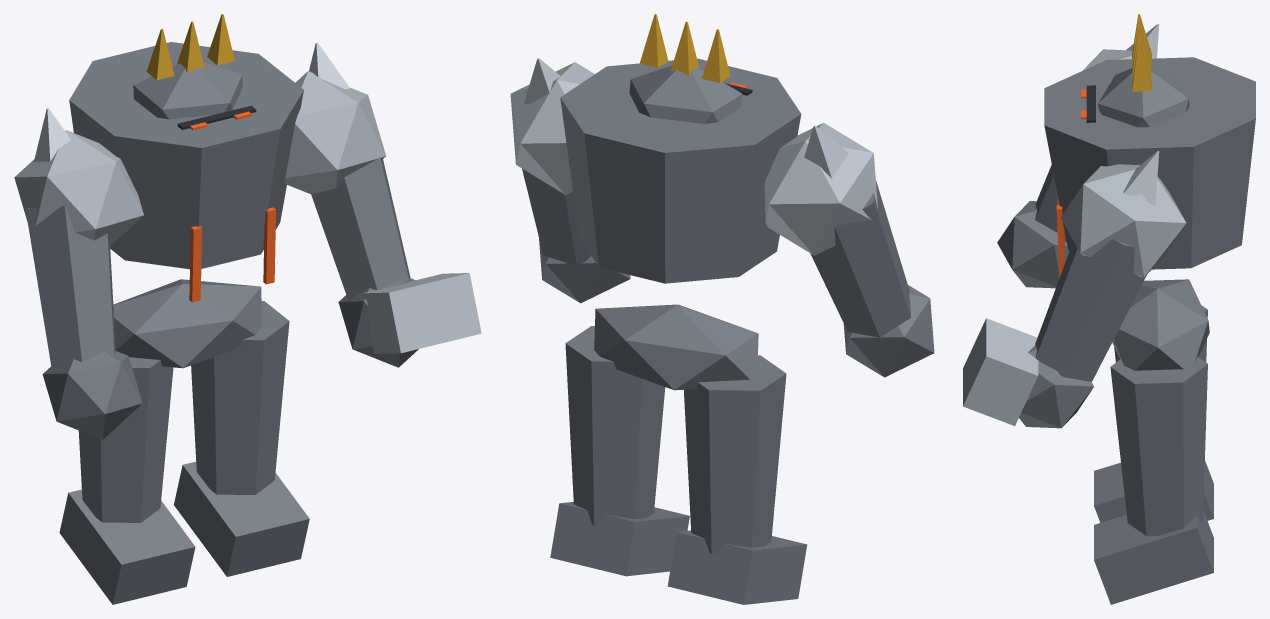
File: npcpose_colossus_attack_13.glb
3 renders of one model, left to right at view 1: azimuth 30°, elevation 25°; view 2: azimuth 150°, elevation 25°; view 3: azimuth 270°, elevation 25°, orthographic. The views are drawn at different scales.
Parts seen in each view (by area): view 1: npcpose; view 2: npcpose; view 3: npcpose.
Boxes of the visible parts, x1,y1,x2,y2 form: npcpose: [14, 14, 481, 604]; npcpose: [510, 14, 934, 604]; npcpose: [963, 14, 1255, 604].
Bounding box in the file's own units: 2.3 × 3.12 × 1.56.
